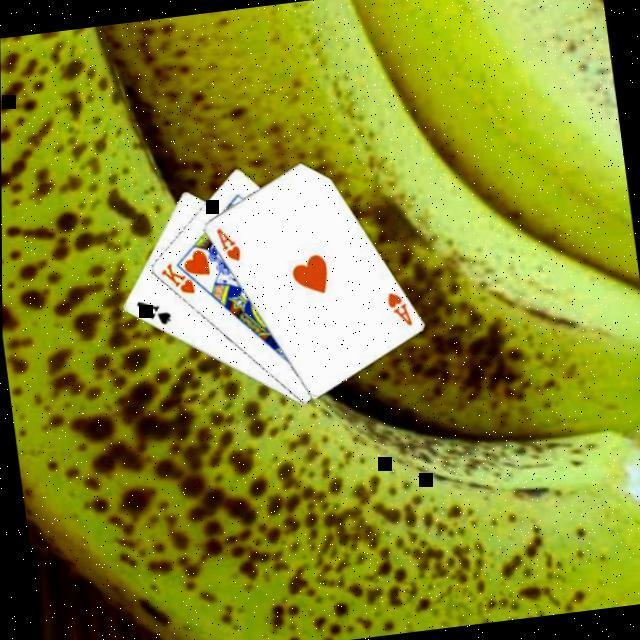AH: (212, 220, 245, 264), (383, 284, 416, 328)
AS: (133, 292, 175, 328)
KH: (156, 254, 198, 296)
